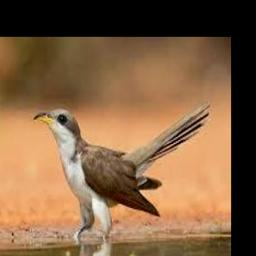Cuckoo: (33, 100, 210, 237)
